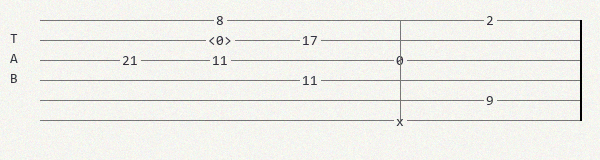0: (396, 54, 408, 67)
11: (212, 54, 232, 67), (302, 74, 322, 87)
17: (302, 34, 322, 47)
2: (486, 14, 498, 27)
21: (122, 54, 142, 67)
8: (216, 14, 228, 27)
9: (486, 94, 498, 107)
harmonic: (208, 34, 236, 47)
x: (396, 115, 408, 126)
